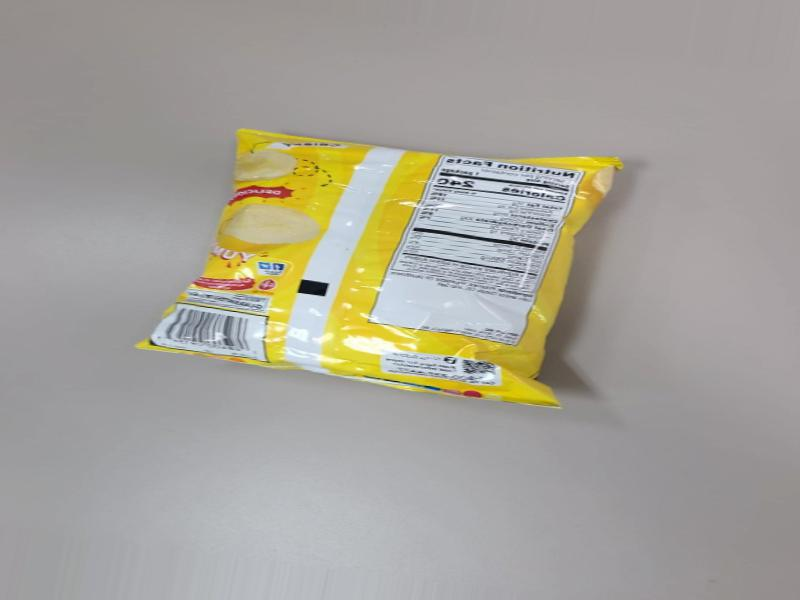lays: (127, 142, 612, 434)
